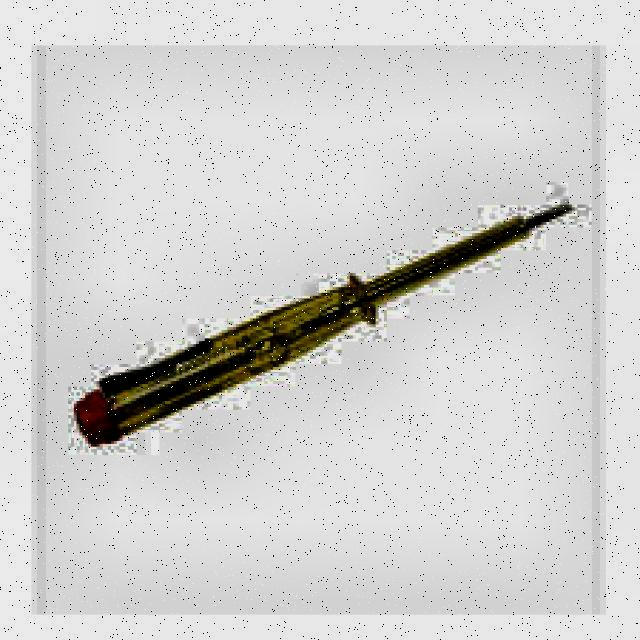screwdriver: (72, 204, 571, 446)
